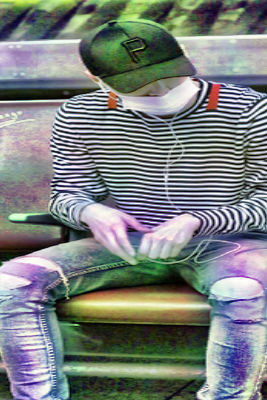mask_weared_incorrect: (108, 77, 203, 117)
